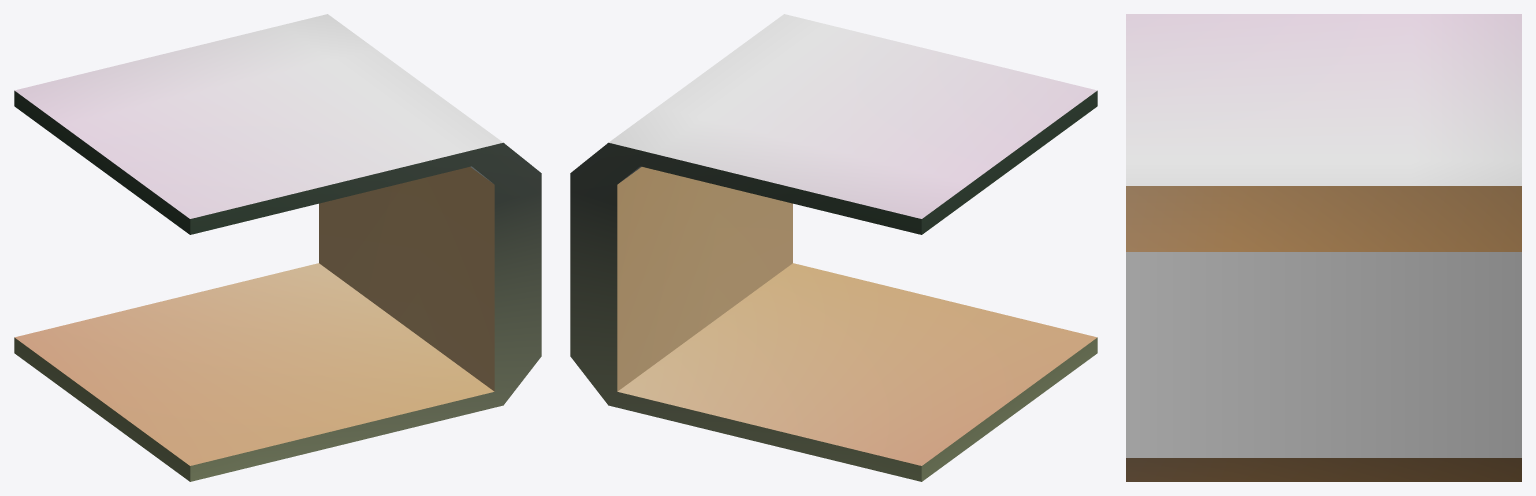
Rendered from R_OutWall.fbx.
The picture shows the model from 3 angles, left to right: view 1: azimuth 30°, elevation 25°; view 2: azimuth 150°, elevation 25°; view 3: azimuth 270°, elevation 25°; orthographic projection. The views are drawn at different scales.
Visible parts, largest first — view 1: R_OutWall; view 2: R_OutWall; view 3: R_OutWall.
Part boxes in pixels (box(x1,y1,x2,y2)): R_OutWall: box(14, 14, 541, 481); R_OutWall: box(570, 14, 1097, 481); R_OutWall: box(1126, 14, 1521, 481).
Size of the model in its own units: 4.62 by 4 by 3.3.
